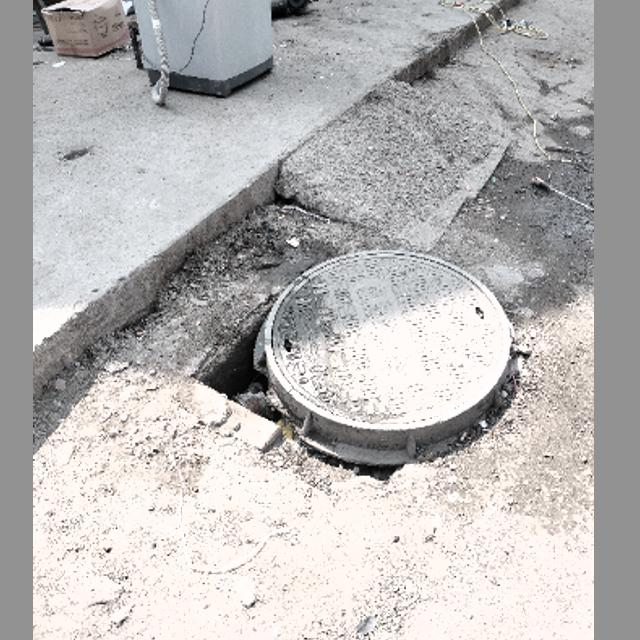circle: (217, 235, 526, 474)
